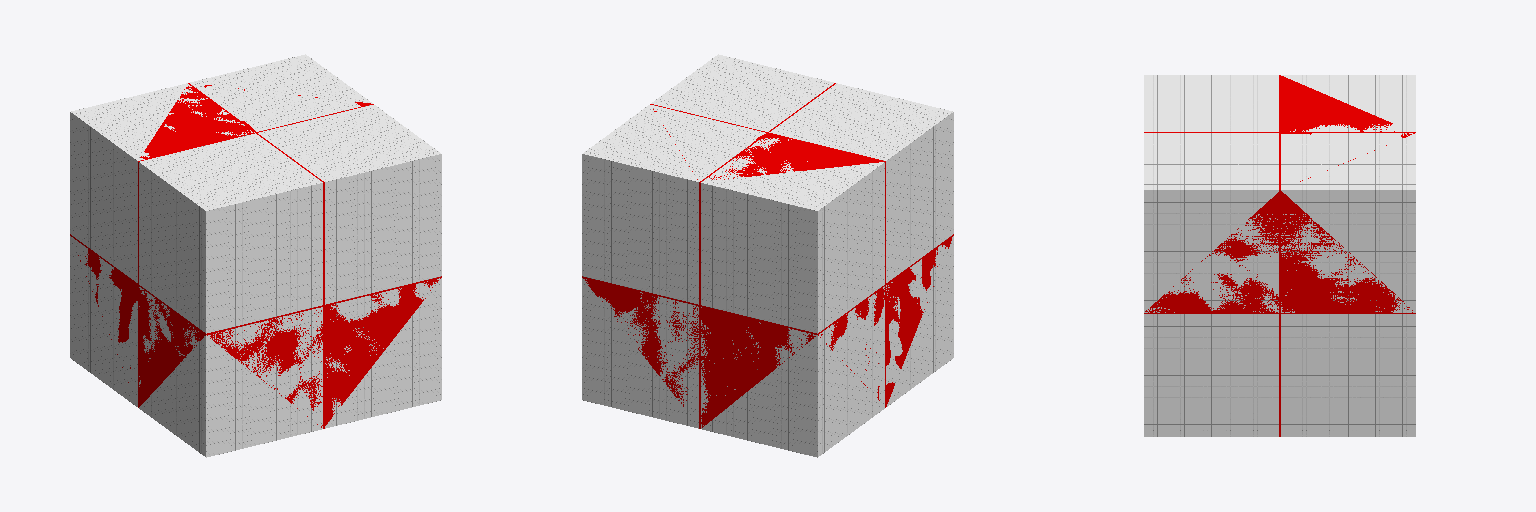
3 views of the same model, side by side, from view 1: azimuth 30°, elevation 25°; view 2: azimuth 150°, elevation 25°; view 3: azimuth 270°, elevation 25° (orthographic).
Parts seen in each view (by area): view 1: Grid.000_Grid.001; view 2: Grid.000_Grid.001; view 3: Grid.000_Grid.001.
Boxes of the visible parts, x1,y1,x2,y2 form: Grid.000_Grid.001: [70, 54, 441, 457]; Grid.000_Grid.001: [582, 54, 953, 457]; Grid.000_Grid.001: [1144, 75, 1415, 436].
Size of the model in its own units: 500 by 500 by 500.
Materials: 2 (2 with a texture image).